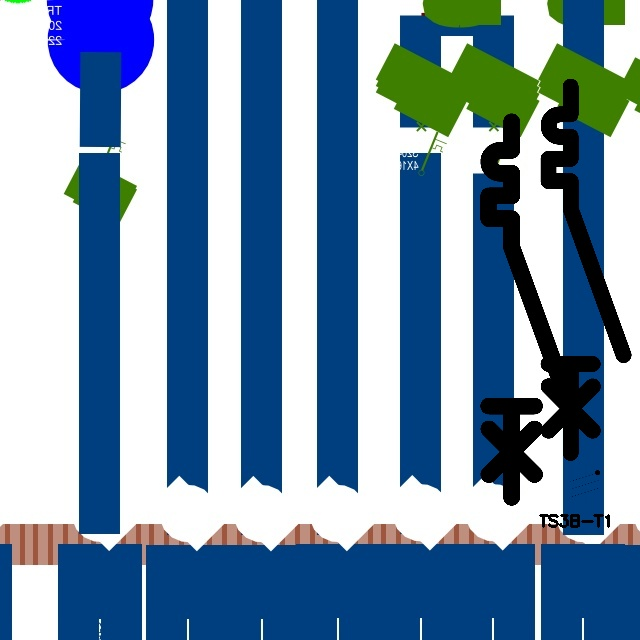interruptor_termomagnetico: (479, 112, 575, 507), (539, 77, 633, 462)
